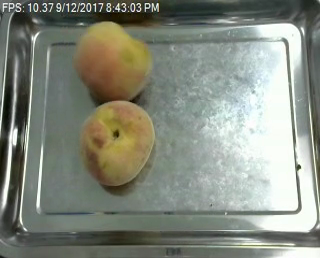Peach: (80, 98, 155, 188), (74, 20, 151, 101)
